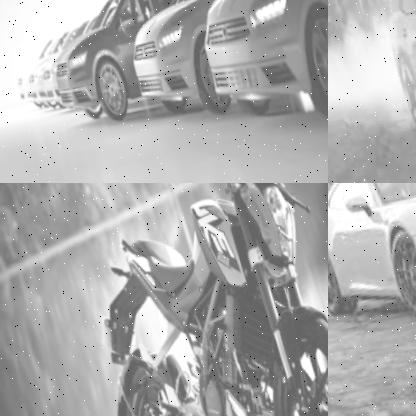bike: (43, 183, 328, 416)
car: (176, 0, 328, 130), (35, 0, 143, 127), (107, 0, 218, 116), (328, 183, 416, 326), (367, 0, 416, 148)
